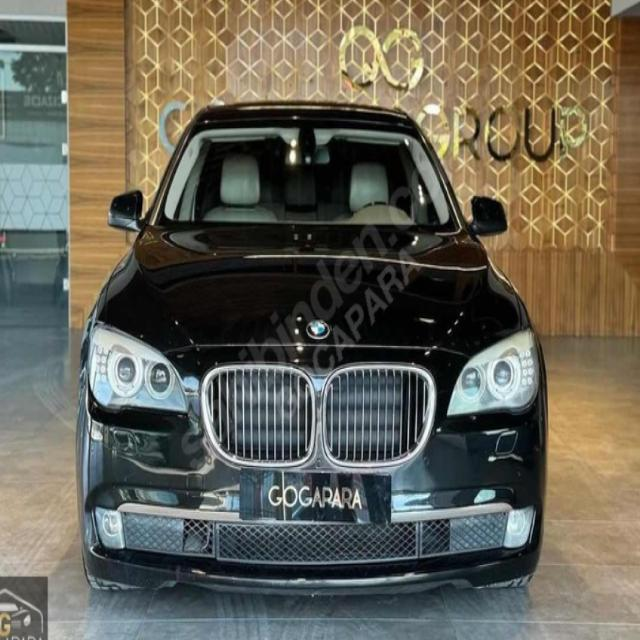bmw: (306, 314, 332, 342)
